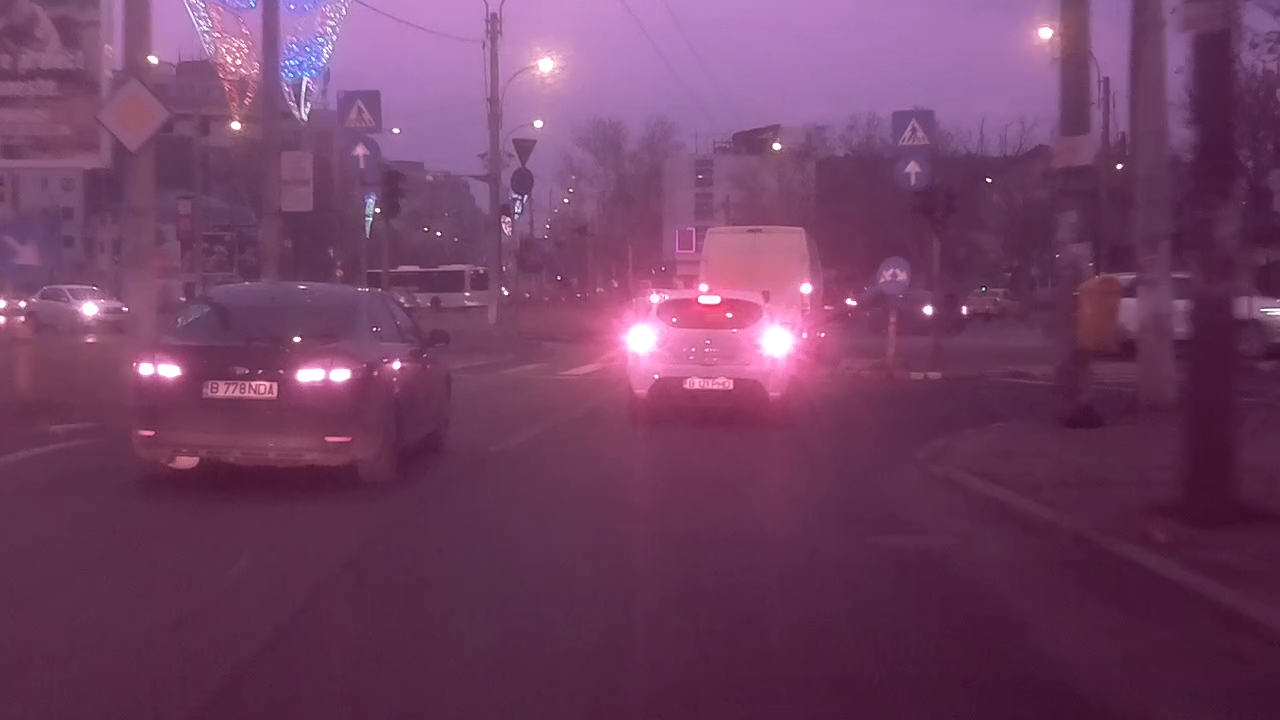license-plate: (196, 376, 282, 400)
